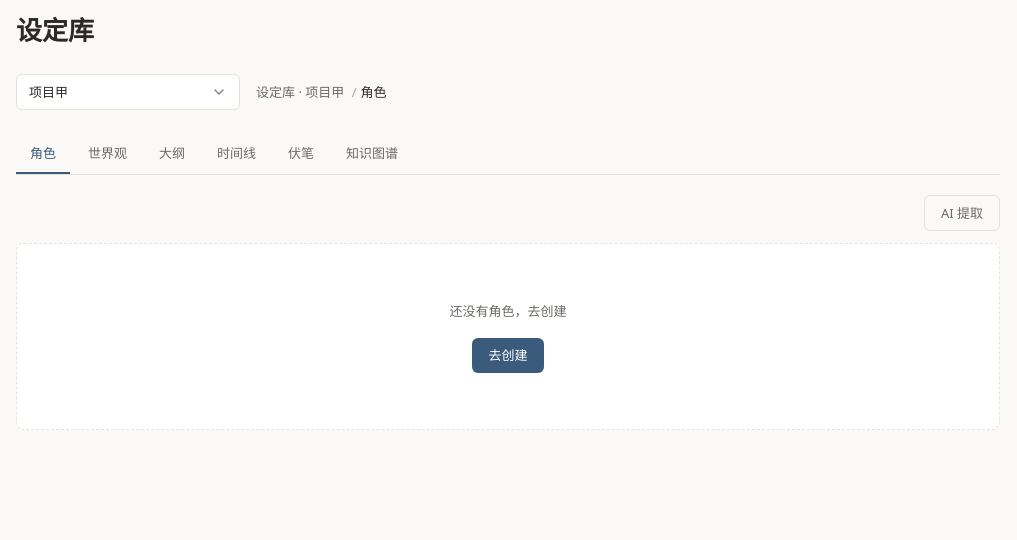
Test: 设定库页 — F43 P1 角色等级/标签/世界观树/复制（#284） › R8 世界观树渲染：parent_id 层级 + toggle 展开/收起（子节点显隐）
This screenshot has width=1017, height=540.
Click the tab "世界观" at (108, 154), box [74, 134, 141, 174]
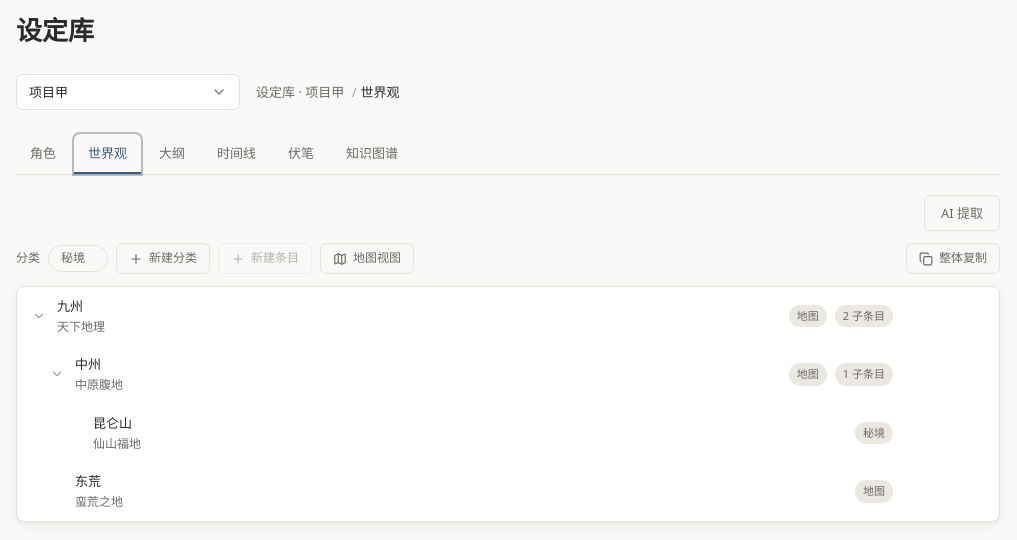
Check: the element with test id "library-list" is shown, box [16, 286, 1000, 522]
Check: the button with test id "world-tree-toggle-w1" is shown
Check: the button with test id "world-tree-toggle-w1a" is shown, box [47, 364, 67, 384]
点 toggle 收起 → 子树不渲染
Click the button with test id "world-tree-toggle-w1" at (39, 316), box [29, 306, 49, 326]
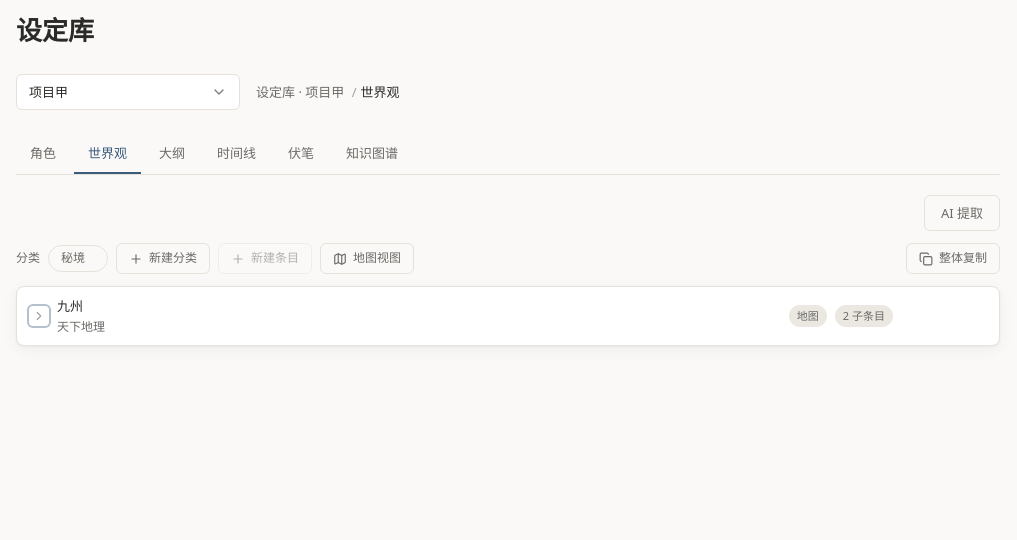
Check: the text "中州" is gone
再点展开 → 恢复
Click the button with test id "world-tree-toggle-w1" at (39, 316), box [29, 306, 49, 326]
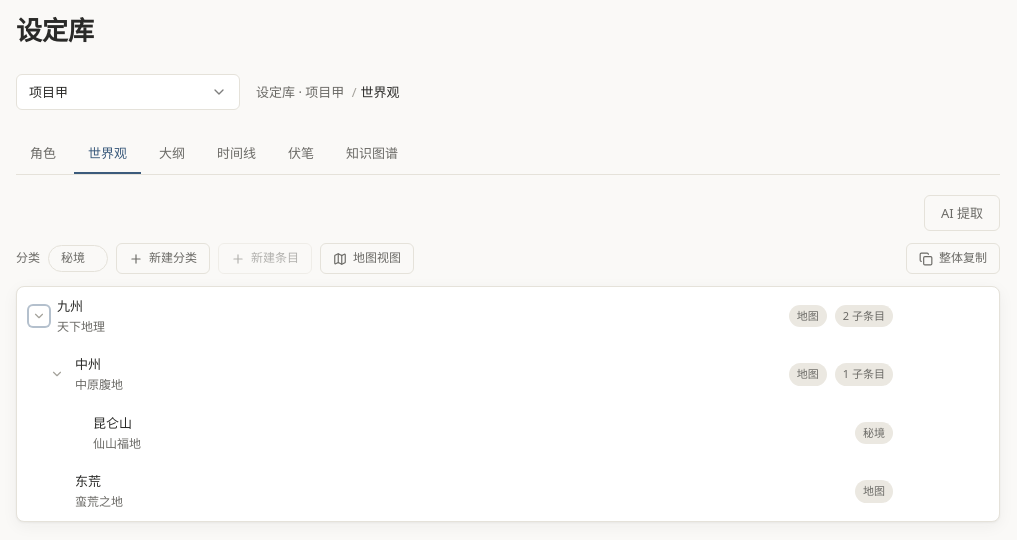
Check: the text "中州" is shown, box [75, 355, 101, 373]
